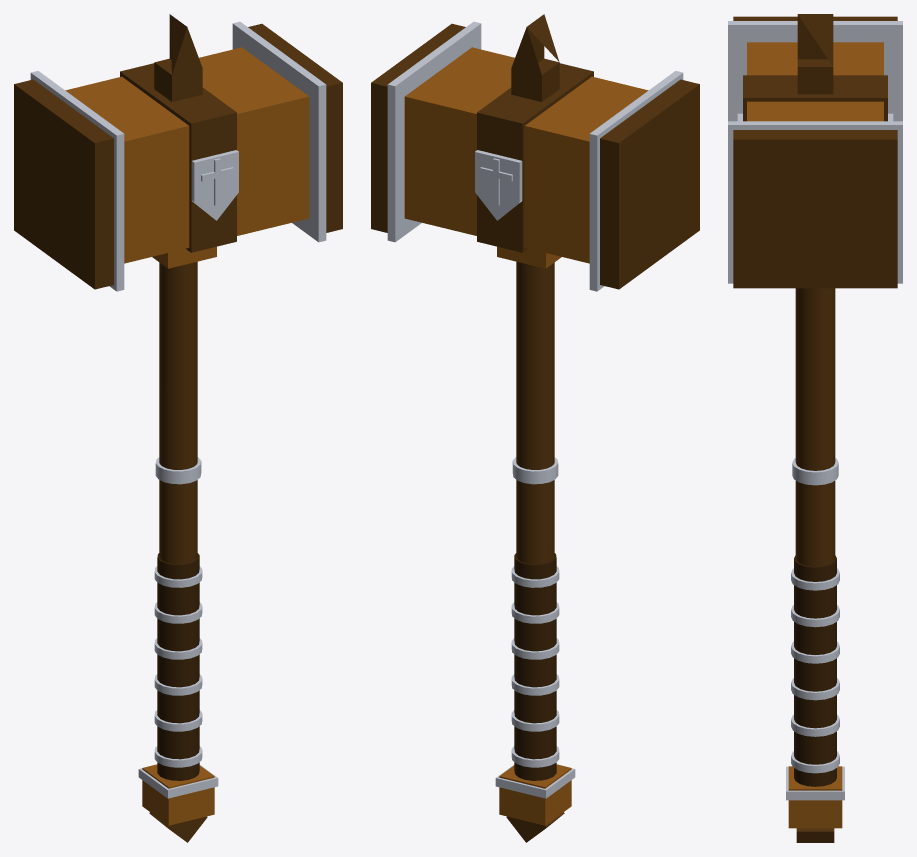
3 views of the same model, side by side, from view 1: azimuth 30°, elevation 25°; view 2: azimuth 150°, elevation 25°; view 3: azimuth 270°, elevation 25° (orthographic).
Parts seen in each view (by area): view 1: bastion-hammer; view 2: bastion-hammer; view 3: bastion-hammer.
Boxes of the visible parts, x1,y1,x2,y2 form: bastion-hammer: (14,14,342,842); bastion-hammer: (371,14,699,842); bastion-hammer: (728,14,902,842).
Bounding box in the file's own units: 0.3819 × 1.2 × 0.2296.
